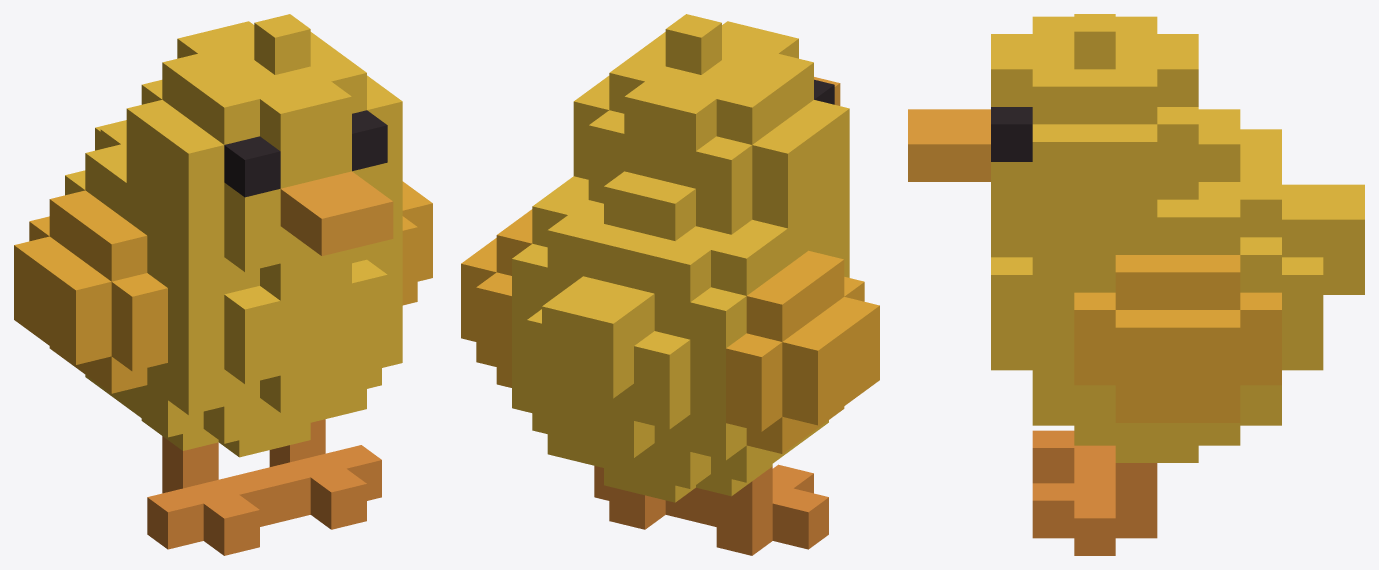
The model's file is chick.glb.
3 views of the same model, side by side, from view 1: azimuth 30°, elevation 25°; view 2: azimuth 150°, elevation 25°; view 3: azimuth 270°, elevation 25° (orthographic).
Visible parts, largest first — view 1: chick; view 2: chick; view 3: chick.
Boxes of the visible parts, bbox=[...] form: chick: bbox=[14, 14, 432, 555]; chick: bbox=[461, 14, 879, 555]; chick: bbox=[908, 14, 1364, 555].
Size of the model in its own units: 1 by 1.3 by 1.1.
Materials: 1 (1 with a texture image).
